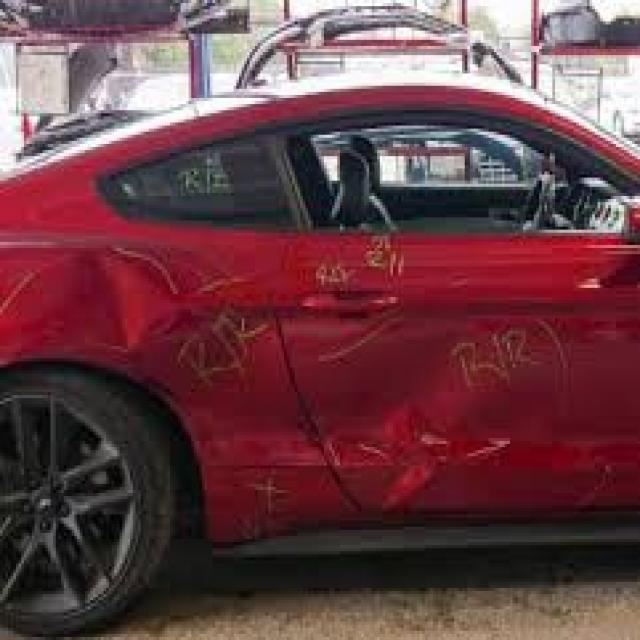minor: (62, 191, 640, 496)
